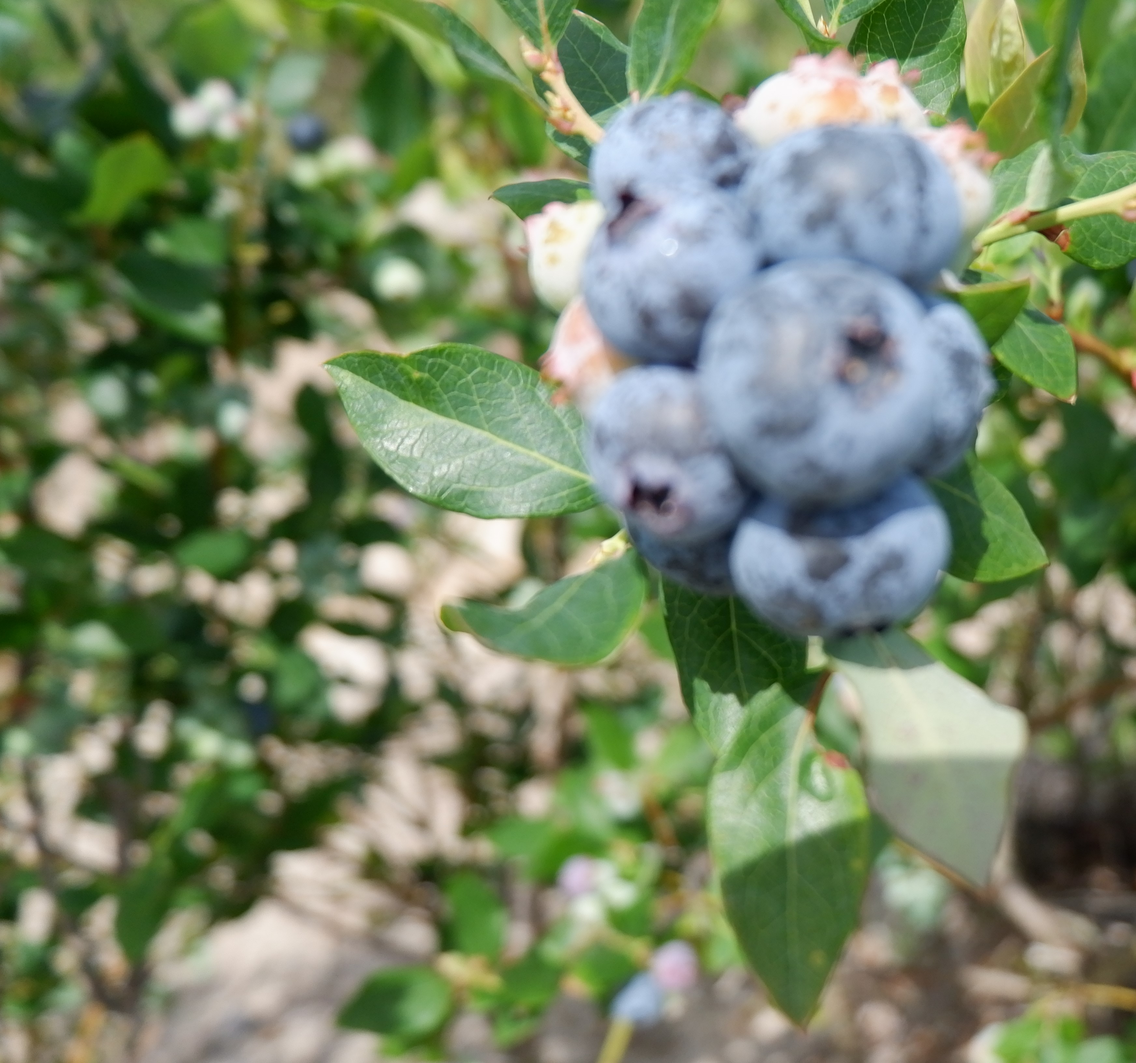Immature: (731, 48, 930, 147), (919, 123, 1002, 254), (545, 295, 638, 404), (527, 201, 598, 307)
Mature: (707, 262, 941, 503), (737, 480, 952, 641), (748, 121, 964, 280), (588, 187, 764, 359), (586, 369, 745, 546), (595, 93, 746, 207), (921, 293, 990, 473), (645, 525, 736, 595)
